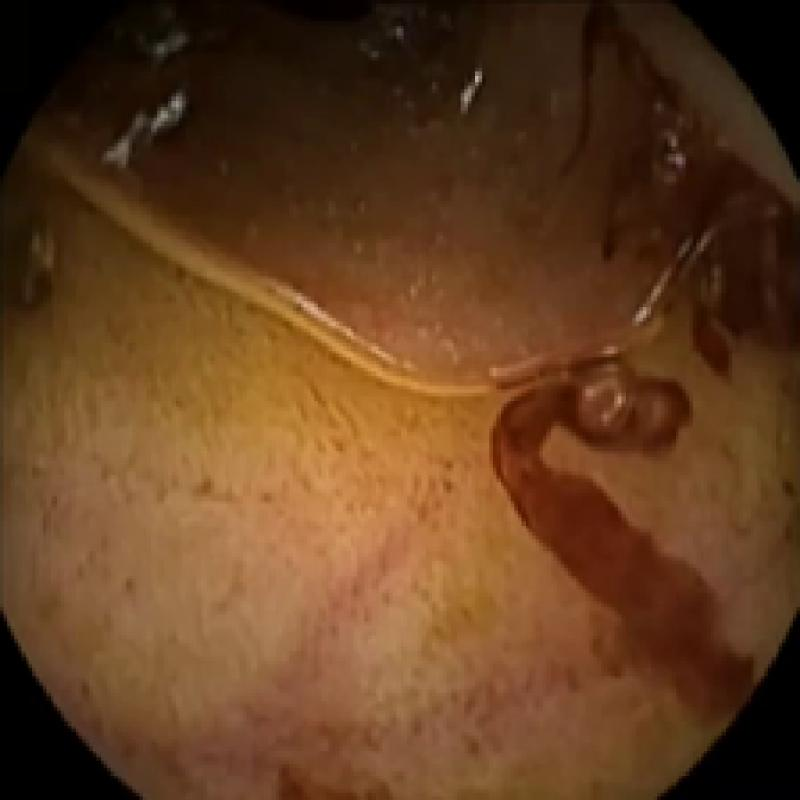bleeding: (490, 369, 759, 710), (550, 4, 800, 364)
